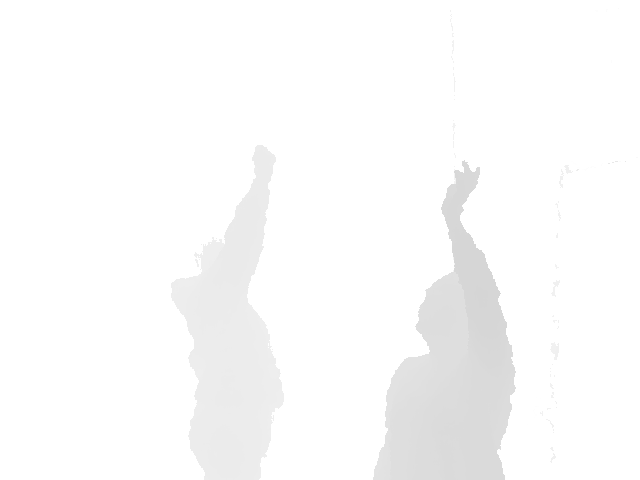hand: (442, 161, 480, 220), (252, 144, 277, 188)
head: (417, 269, 479, 357), (191, 238, 235, 283)
person: (370, 161, 516, 480), (170, 143, 287, 480)
